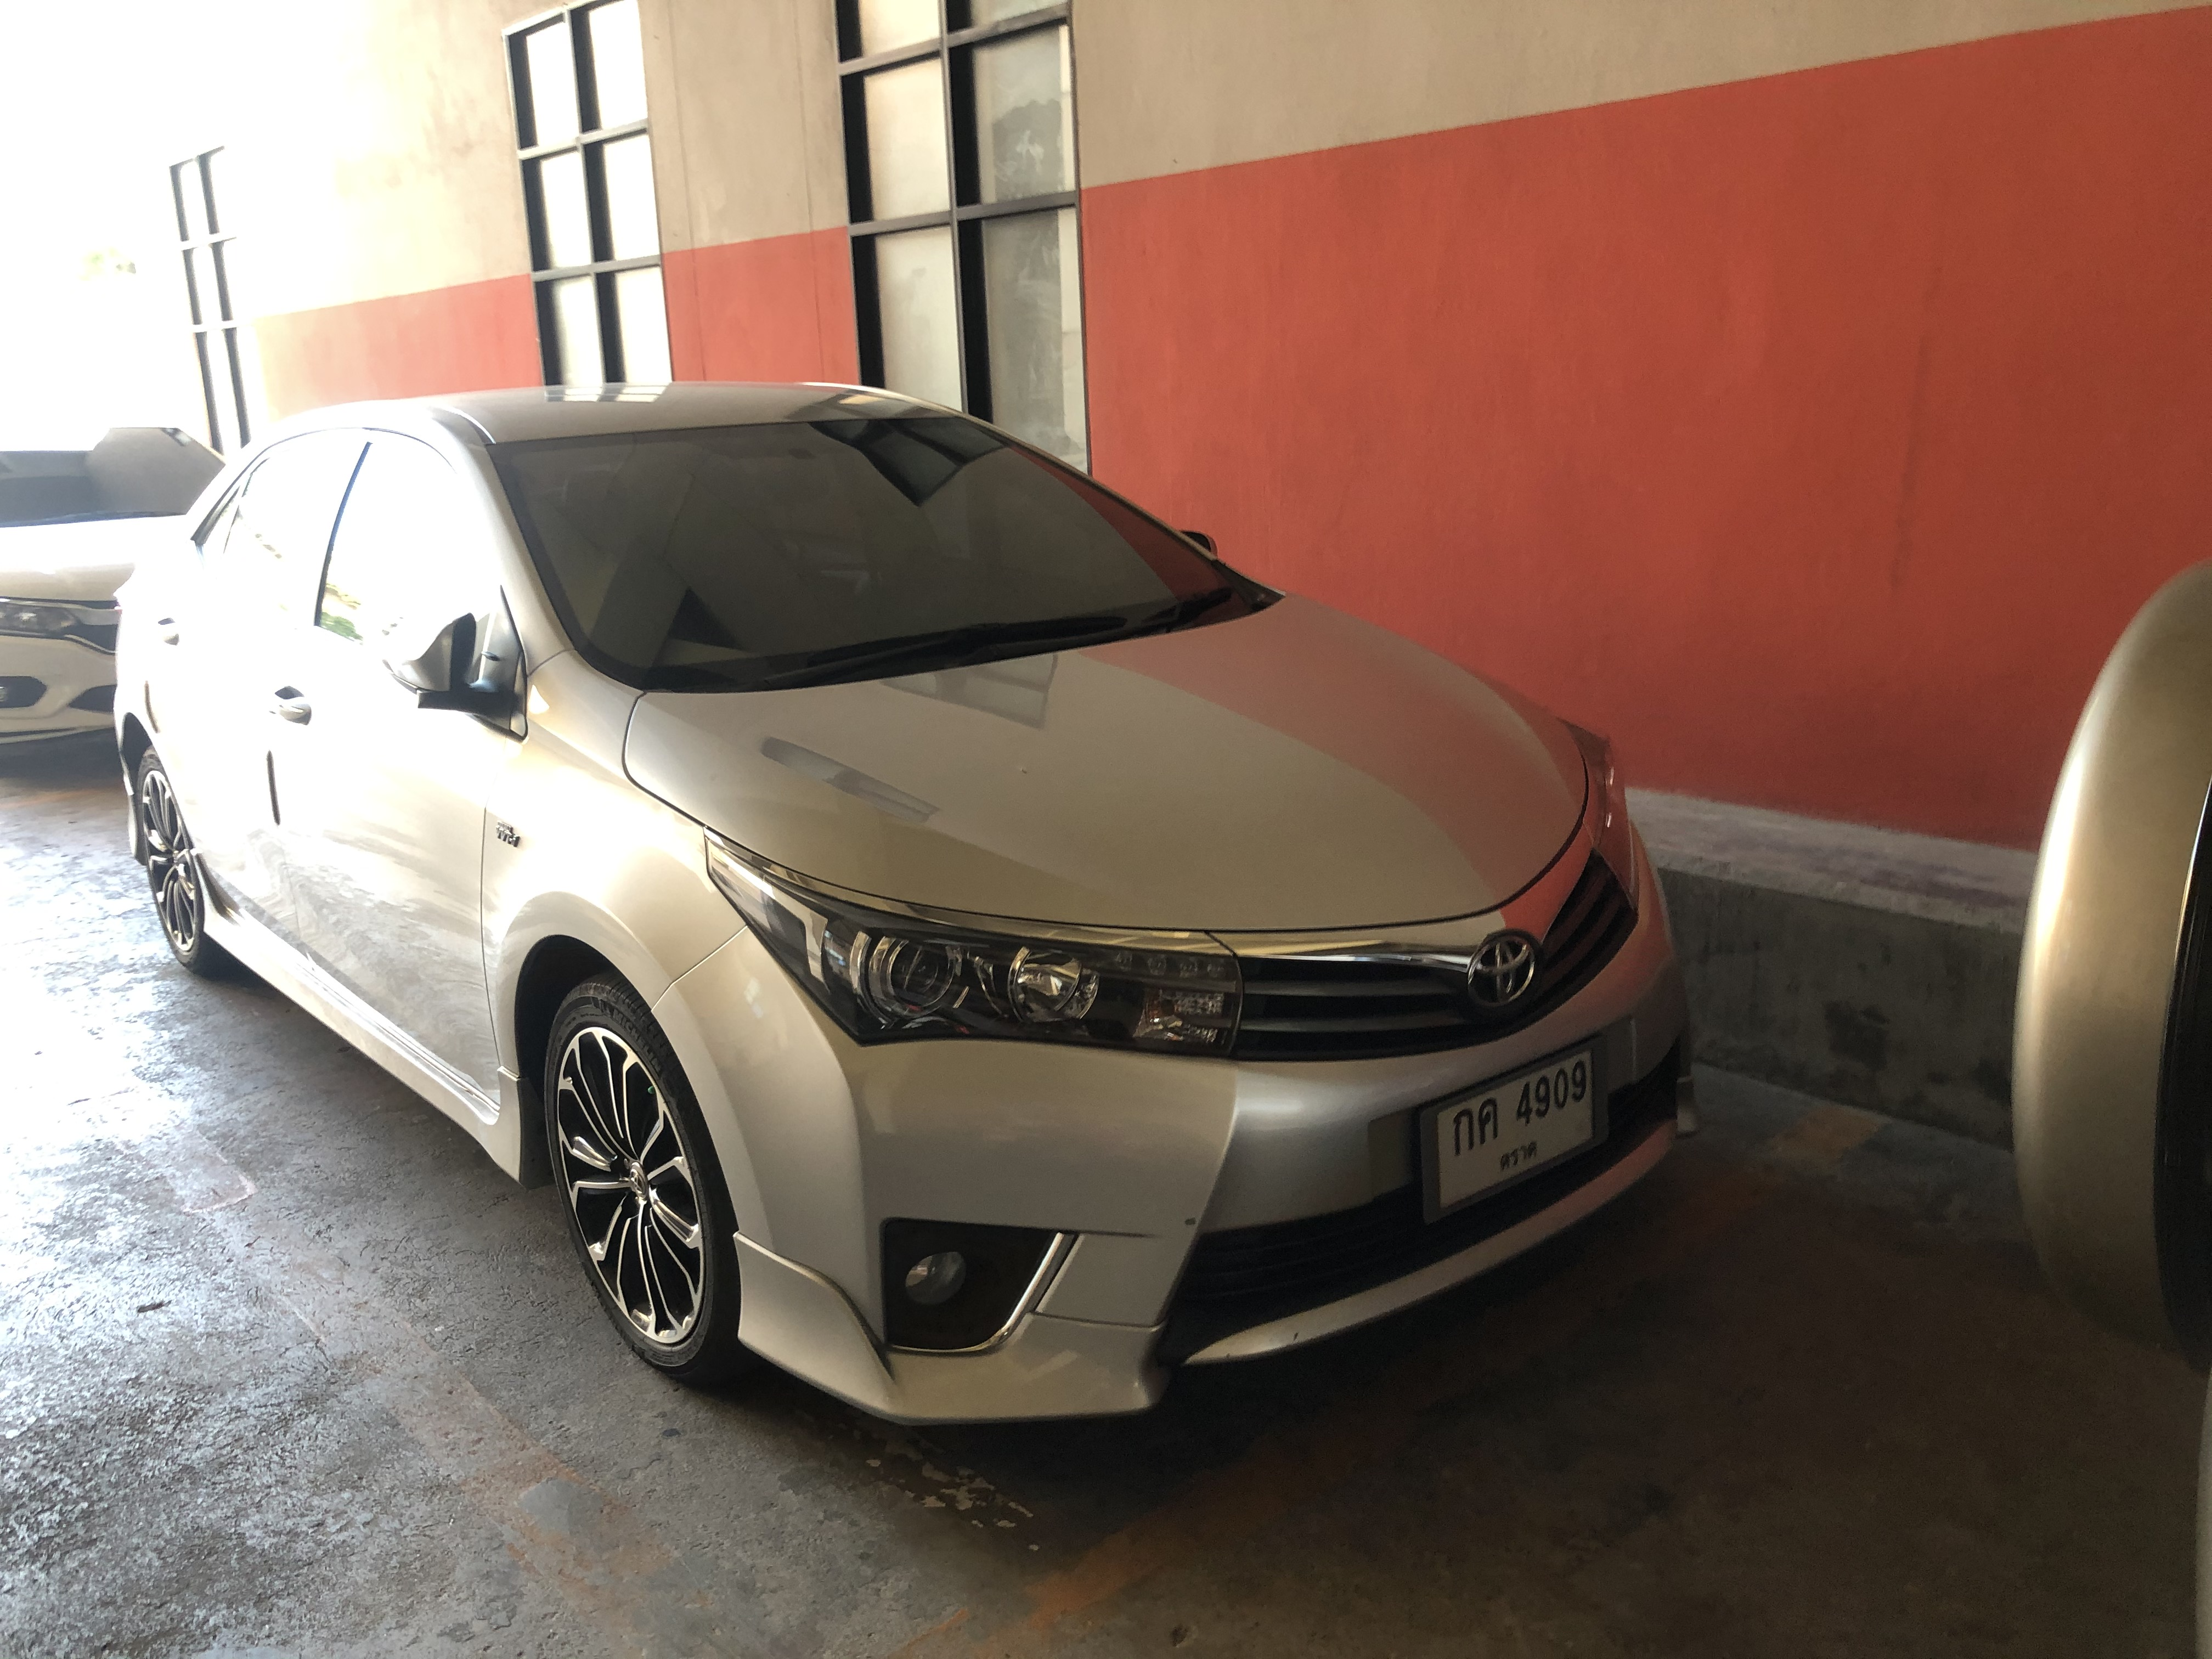in: (1435, 1054, 1599, 1206)
out: (1414, 1032, 1609, 1229)
